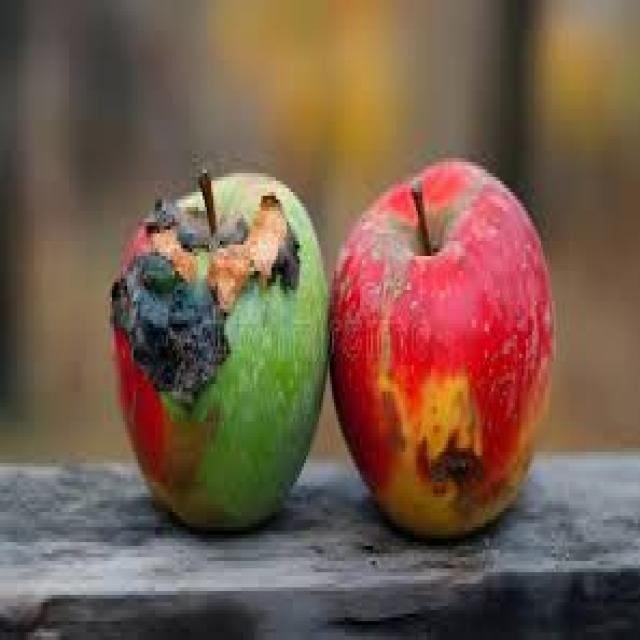Rotten Apple: (328, 158, 556, 540), (110, 175, 329, 531)
